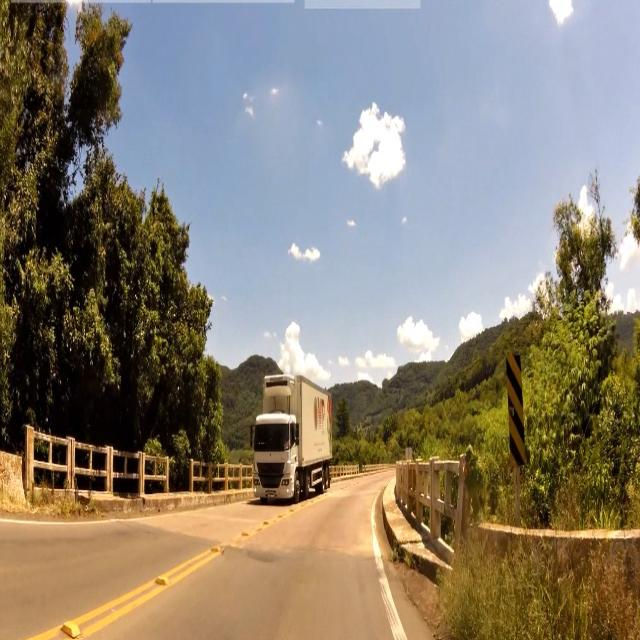MP: (505, 350, 528, 474)
